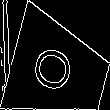O_E: (33, 43, 85, 98)
